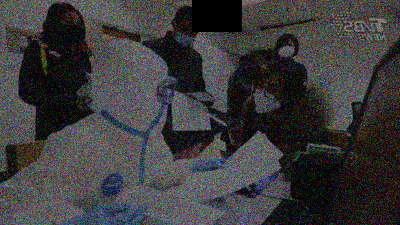with_mask: (253, 81, 281, 117), (58, 15, 86, 46), (174, 23, 197, 48), (277, 42, 297, 60)
